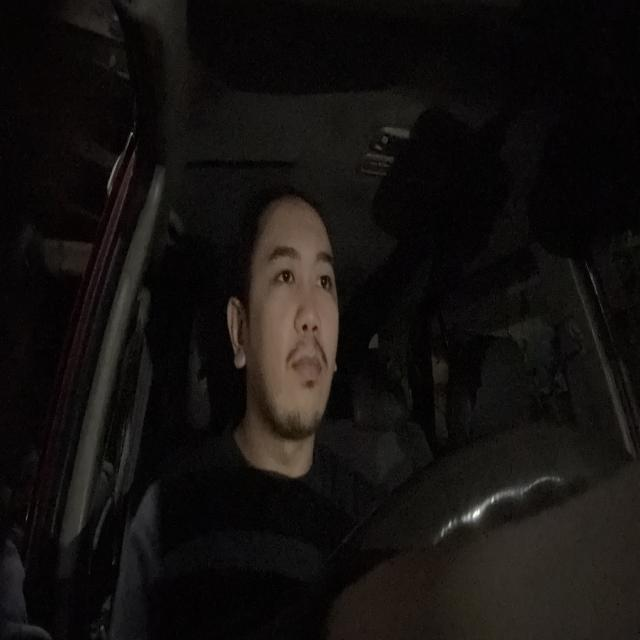open: (267, 242, 303, 295), (314, 250, 335, 304)
